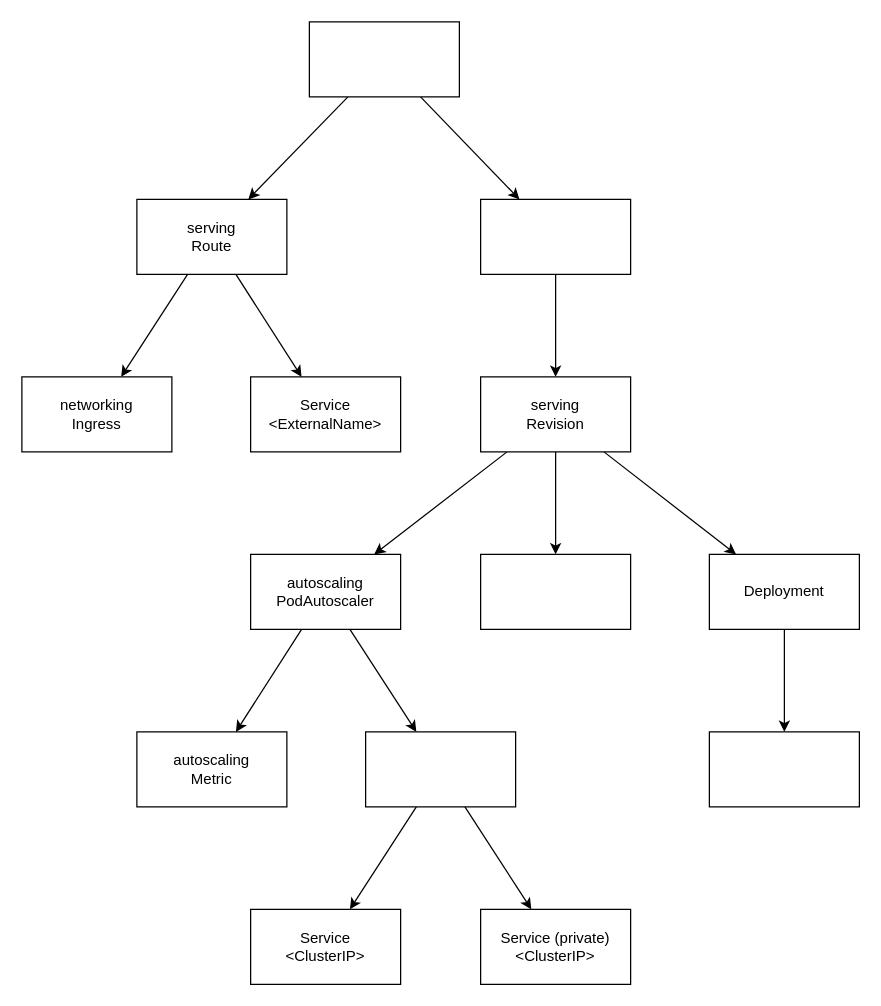
The diagram is 881 pixels wide and 1006 high, and some of its shapes have lost their labels. The shapes that lost their labels are listed below. From the top down, each one's centre as x and y in pixels, then its label:
At (383,59): "serving Service".
At (555,236): "serving Configuration".
At (555,591): "caching Image".
At (440,769): "networking ServerlessService".
At (783,769): "Pod".
